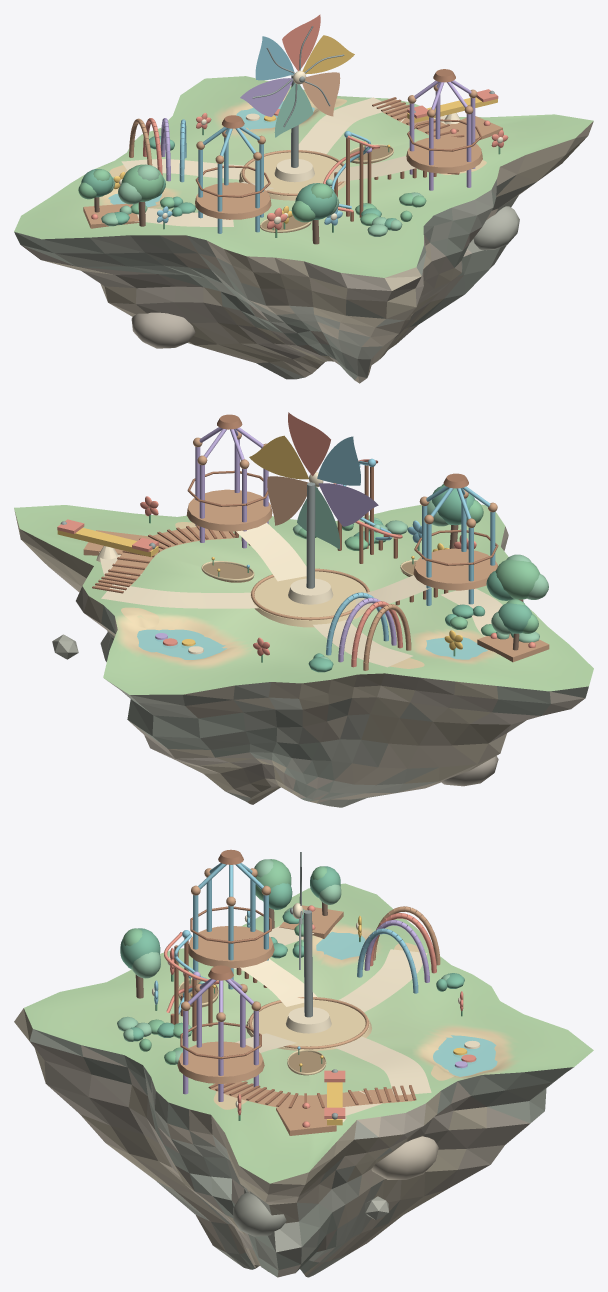
File: pinwheel.glb
The picture shows the model from 3 angles, top to bottom: view 1: azimuth 30°, elevation 25°; view 2: azimuth 150°, elevation 25°; view 3: azimuth 270°, elevation 25°; orthographic projection. The views are drawn at different scales.
Parts seen in each view (by area): view 1: Four headlands and hanging geology, NAV_pinwheel_terrain_1131, Kinetic pinwheel, marble run and seesaw, Mint groves, sculptural flowers and seed beds, Branching play paths, towers and tunnels, NAV_pinwheel_tower_deck_1186, NAV_pinwheel_tower_deck_1213, NAV_pinwheel_plaza_1141, NAV_pinwheel_path_1161, NAV_pinwheel_path_1162, NAV_pinwheel_ramp_1152, NAV_pinwheel_path_1184 (+4 smaller); view 2: Four headlands and hanging geology, NAV_pinwheel_terrain_1131, Kinetic pinwheel, marble run and seesaw, Branching play paths, towers and tunnels, Mint groves, sculptural flowers and seed beds, NAV_pinwheel_plaza_1141, Shallow playful pools, NAV_pinwheel_tower_deck_1213, NAV_pinwheel_tower_deck_1186, NAV_pinwheel_path_1161, NAV_pinwheel_ramp_1152, NAV_pinwheel_path_1162 (+4 smaller); view 3: Four headlands and hanging geology, NAV_pinwheel_terrain_1131, Branching play paths, towers and tunnels, Mint groves, sculptural flowers and seed beds, Kinetic pinwheel, marble run and seesaw, NAV_pinwheel_plaza_1141, Shallow playful pools, NAV_pinwheel_tower_deck_1213, NAV_pinwheel_tower_deck_1186, NAV_pinwheel_path_1161, NAV_pinwheel_path_1162, NAV_pinwheel_raised_walkway_1163 (+3 smaller).
Part boxes in pixels (x1,y1,x2,y2): Four headlands and hanging geology: (14,98,593,383); NAV_pinwheel_terrain_1131: (14,76,593,277); Kinetic pinwheel, marble run and seesaw: (240,14,498,221); Mint groves, sculptural flowers and seed beds: (78,113,508,244); Branching play paths, towers and tunnels: (91,69,490,233); NAV_pinwheel_tower_deck_1186: (195,182,271,219); NAV_pinwheel_tower_deck_1213: (406,136,482,173); NAV_pinwheel_plaza_1141: (239,152,345,200); NAV_pinwheel_path_1161: (298,97,394,154); NAV_pinwheel_path_1162: (121,159,243,179); NAV_pinwheel_ramp_1152: (331,156,415,181); NAV_pinwheel_path_1184: (135,208,233,226); Four headlands and hanging geology: (14,511,588,807); NAV_pinwheel_terrain_1131: (14,504,593,694); Kinetic pinwheel, marble run and seesaw: (57,412,402,604); Branching play paths, towers and tunnels: (92,414,535,670); Mint groves, sculptural flowers and seed beds: (140,484,548,672); NAV_pinwheel_plaza_1141: (250,571,370,627); Shallow playful pools: (137,629,487,659); NAV_pinwheel_tower_deck_1213: (186,489,272,531); NAV_pinwheel_tower_deck_1186: (413,548,498,590); NAV_pinwheel_path_1161: (101,584,258,608); NAV_pinwheel_ramp_1152: (236,522,306,581); NAV_pinwheel_path_1162: (313,620,412,667); Four headlands and hanging geology: (14,942,573,1277); NAV_pinwheel_terrain_1131: (24,883,593,1183); Branching play paths, towers and tunnels: (180,849,440,1127); Mint groves, sculptural flowers and seed beds: (117,859,464,1120); Kinetic pinwheel, marble run and seesaw: (164,852,346,1125); NAV_pinwheel_plaza_1141: (246,1000,371,1050); Shallow playful pools: (316,931,497,1076); NAV_pinwheel_tower_deck_1213: (177,1041,264,1083); NAV_pinwheel_tower_deck_1186: (188,926,274,968); NAV_pinwheel_path_1161: (334,1036,431,1095); NAV_pinwheel_path_1162: (339,949,427,1012); NAV_pinwheel_raised_walkway_1163: (210,1082,414,1109).
Size of the model in its own units: 14.27 by 8.84 by 11.56.
